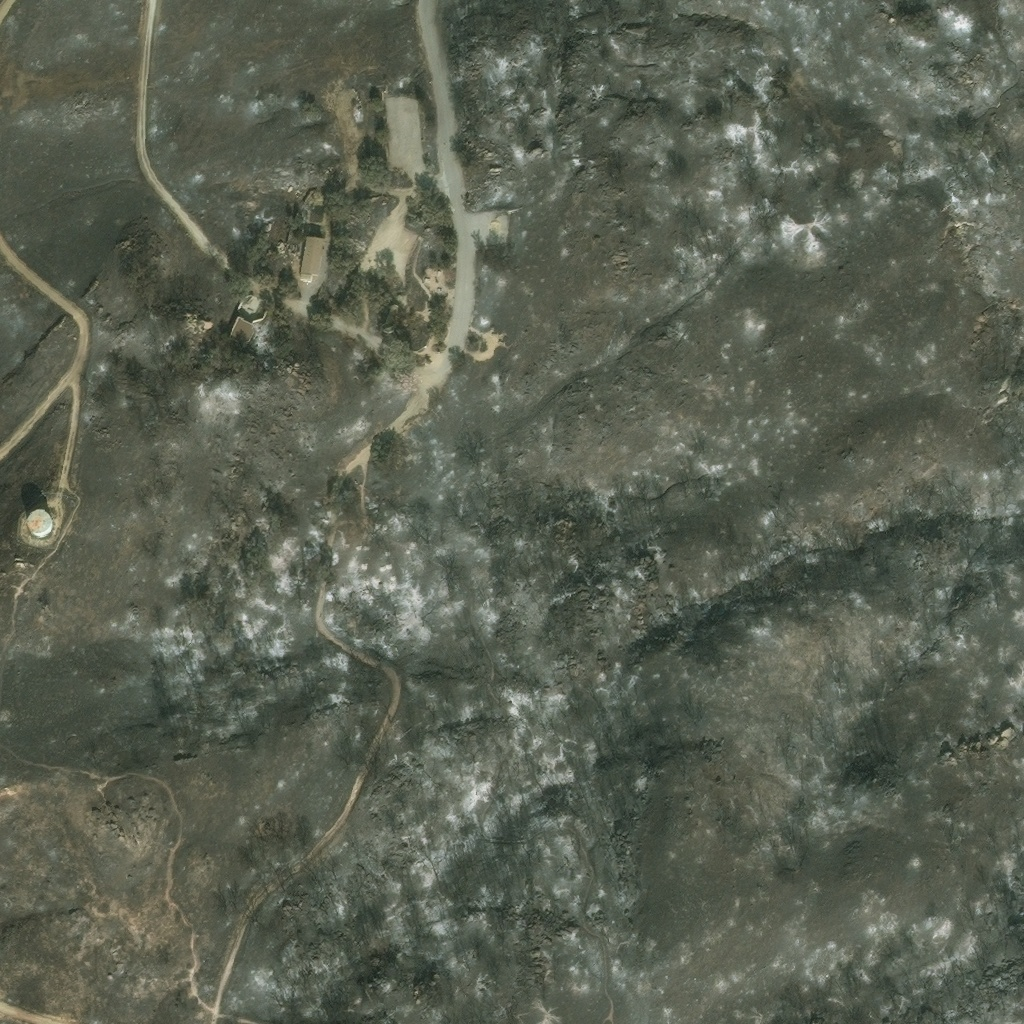0 no-damage: (301, 237, 325, 278), (25, 511, 53, 540), (228, 317, 254, 343)
